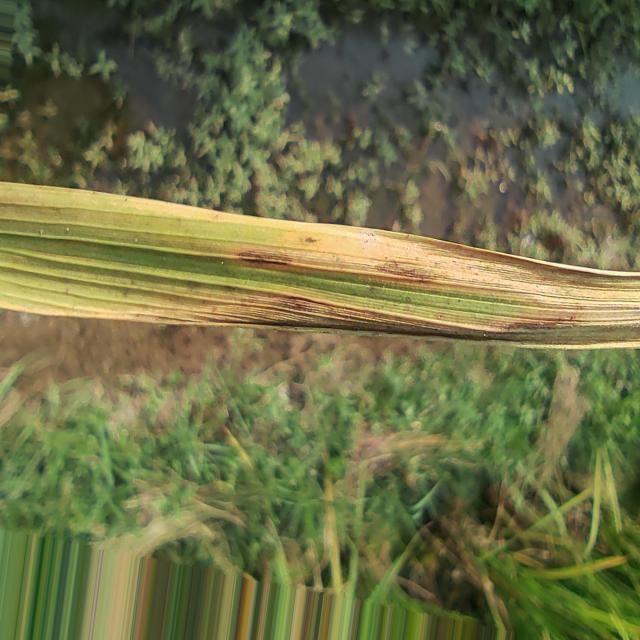Brown_Spot: (236, 240, 299, 270), (305, 235, 318, 243)
